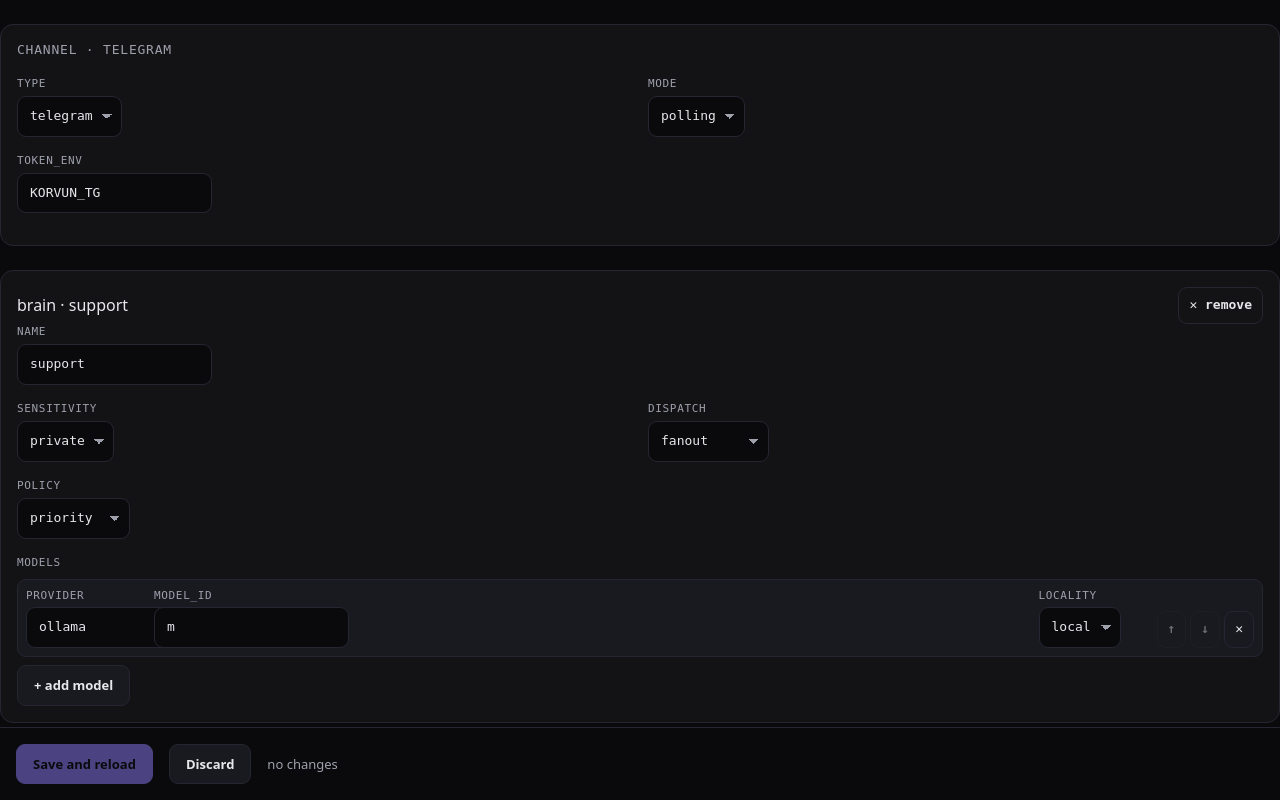
Test: ConfigEditor — error/edge states (2b.2c) › remove brain: confirm removes it; removing the LAST brain falls into the empty/first-run state
Click the button with aria-label "remove brain support" at {"x": 1221, "y": 306}, box [1178,287,1263,324]
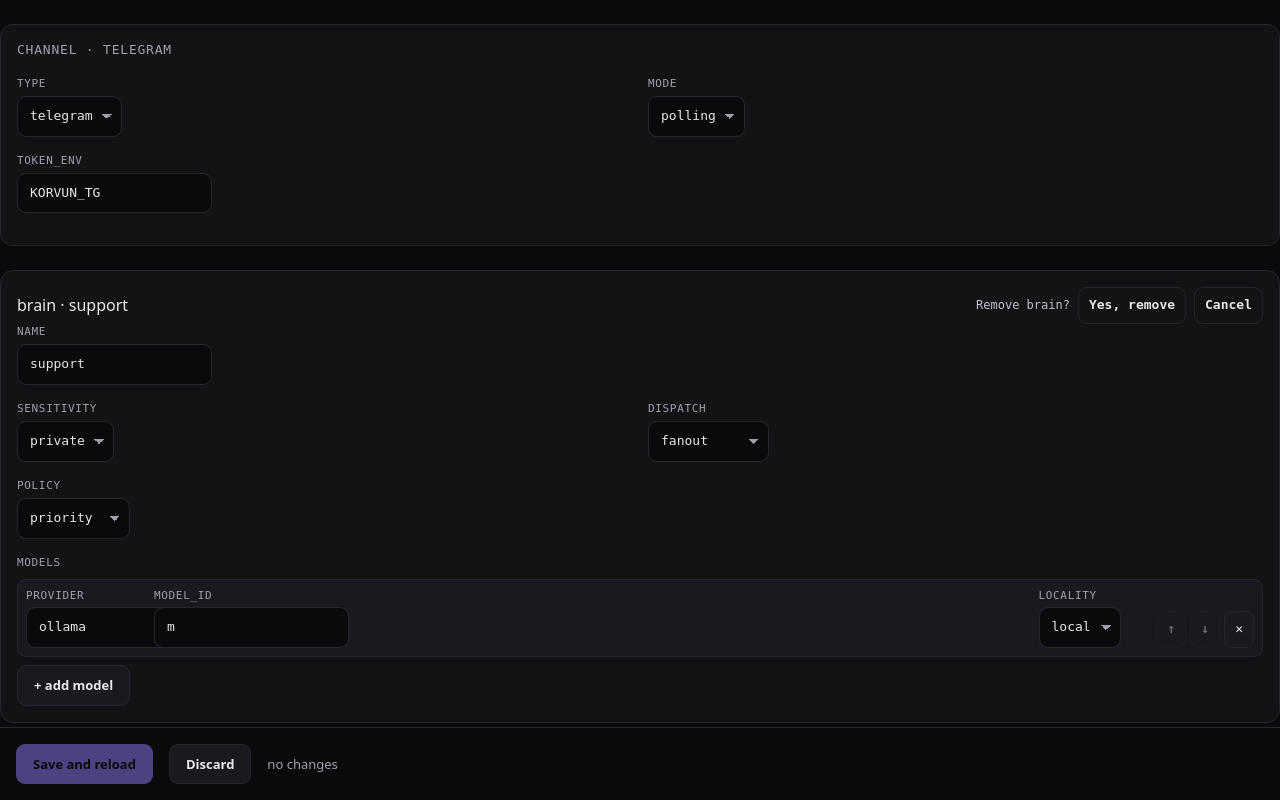
Now the element with test id "brain-remove-confirm-0" is shown, box [976,287,1263,324]
Click the button "Yes, remove" at {"x": 1132, "y": 306}, box [1078,287,1186,324]
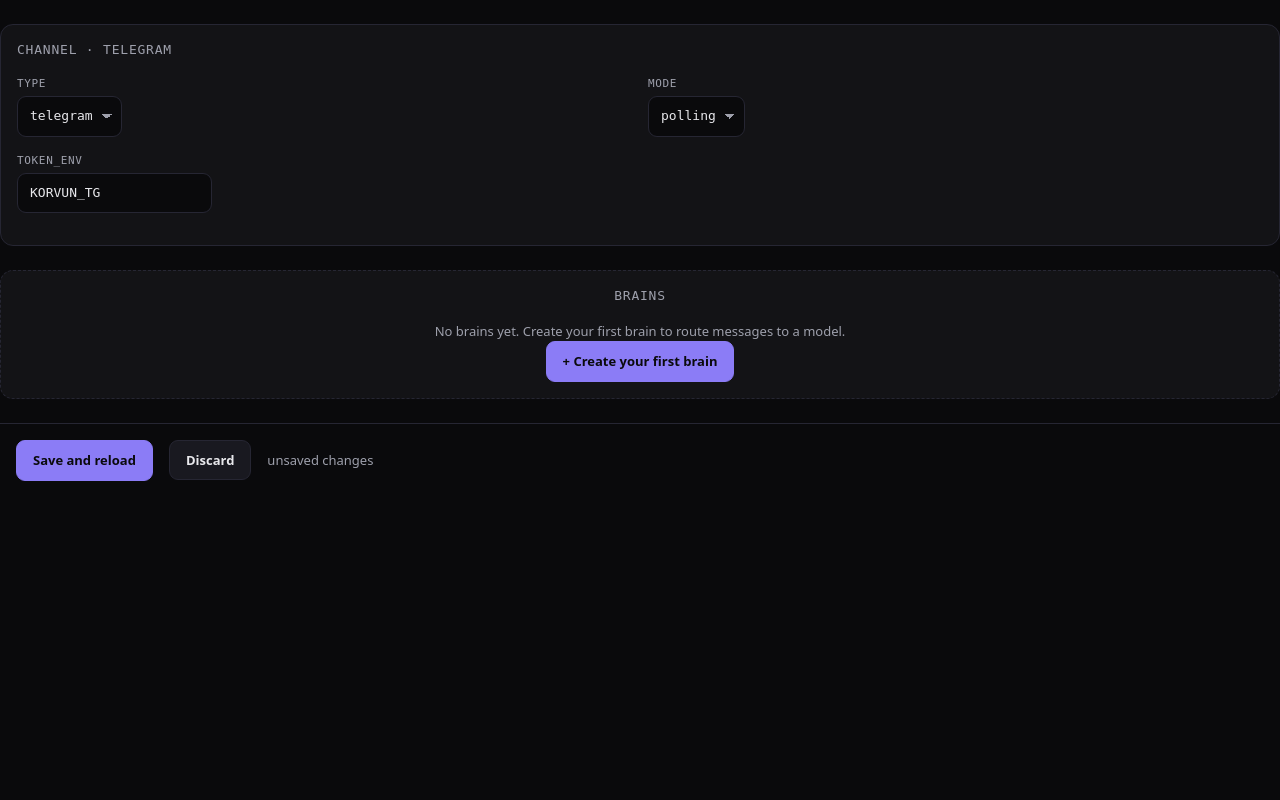
Now the element with test id "empty-brains" shows "Create your first brain", box [435,322,845,340]
